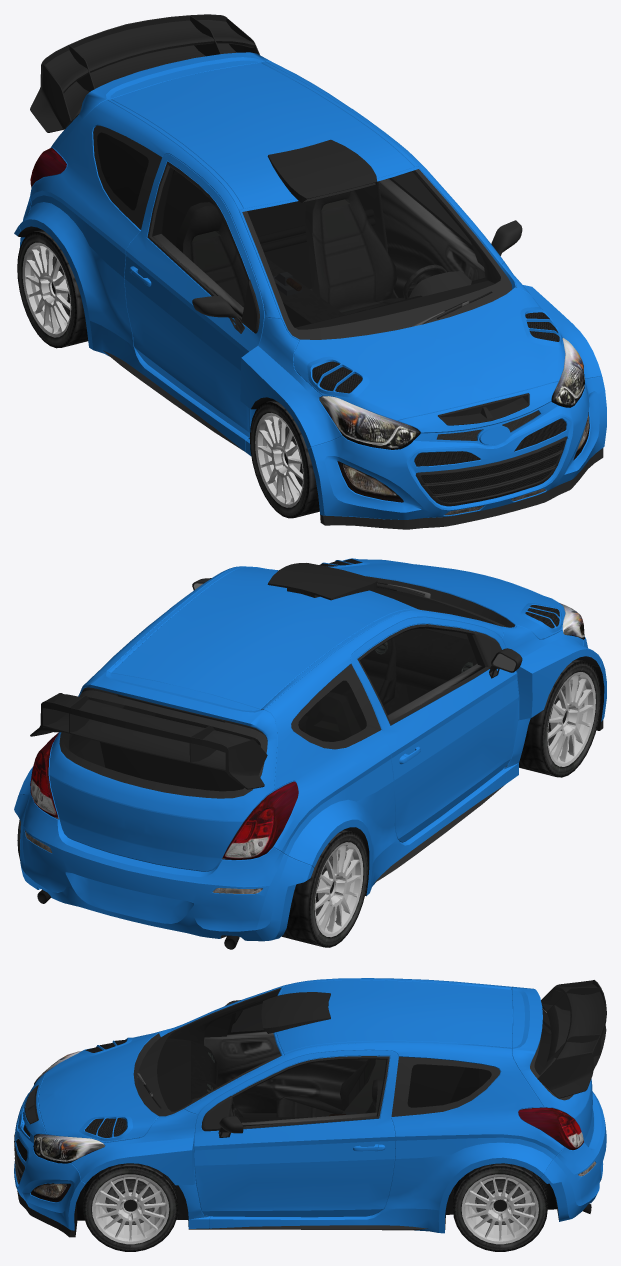
The model's file is Car_4.FBX.
3 renders of one model, top to bottom at view 1: azimuth 30°, elevation 25°; view 2: azimuth 150°, elevation 25°; view 3: azimuth 270°, elevation 25°, orthographic. The views are drawn at different scales.
Visible parts, largest first — view 1: Body, Door_F, Door_R, Door_L, Wheel_BR, Wheel_FR; view 2: Body, Door_R, Wheel_BR, Wheel_FR, Door_F; view 3: Body, Door_L, Door_F, Door_R, Wheel_BL, Wheel_FL.
Part boxes in pixels (left/top/right/bottom): Body: left=14, top=14, right=606, bottom=529; Door_F: left=293, top=287, right=565, bottom=433; Door_R: left=124, top=153, right=264, bottom=437; Door_L: left=379, top=172, right=522, bottom=297; Wheel_BR: left=17, top=230, right=88, bottom=348; Wheel_FR: left=250, top=400, right=319, bottom=518; Body: left=14, top=563, right=606, bottom=949; Door_R: left=350, top=617, right=522, bottom=842; Wheel_BR: left=282, top=829, right=368, bottom=947; Wheel_FR: left=519, top=659, right=601, bottom=777; Door_F: left=320, top=558, right=565, bottom=639; Body: left=14, top=978, right=606, bottom=1237; Door_L: left=194, top=1050, right=398, bottom=1217; Door_F: left=23, top=1032, right=158, bottom=1142; Door_R: left=204, top=1000, right=367, bottom=1112; Wheel_BL: left=453, top=1163, right=547, bottom=1251; Wheel_FL: left=83, top=1163, right=177, bottom=1251.
Bounding box in the file's own units: 68.49 × 48.22 × 136.
